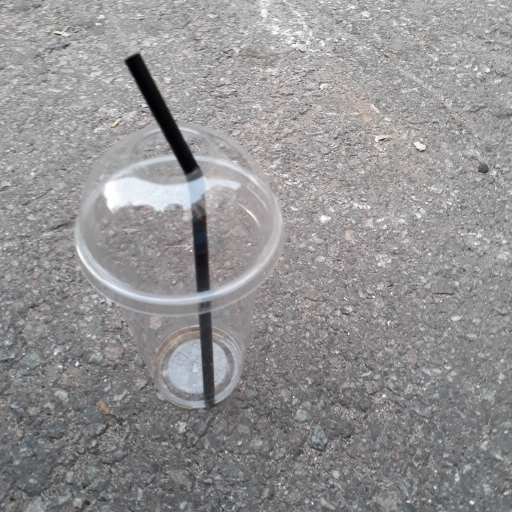Plastic_2: (76, 52, 281, 409)
